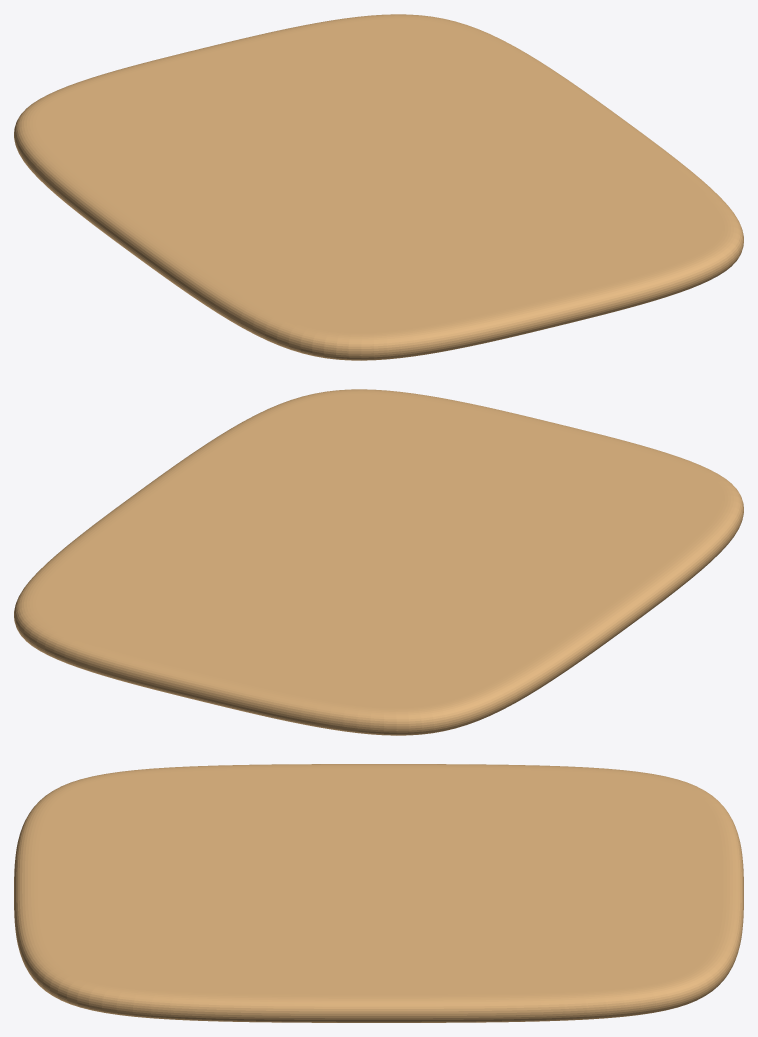
File: deska do krojenia.fbx
3 renders of one model, top to bottom at view 1: azimuth 30°, elevation 25°; view 2: azimuth 150°, elevation 25°; view 3: azimuth 270°, elevation 25°, orthographic.
Visible parts, largest first — view 1: deska do krojenia; view 2: deska do krojenia; view 3: deska do krojenia.
Part boxes in pixels (bbox=[...]): deska do krojenia: bbox=[14, 14, 743, 360]; deska do krojenia: bbox=[14, 389, 743, 735]; deska do krojenia: bbox=[14, 764, 743, 1022].
Size of the model in its own units: 25.18 by 1.13 by 31.67.
